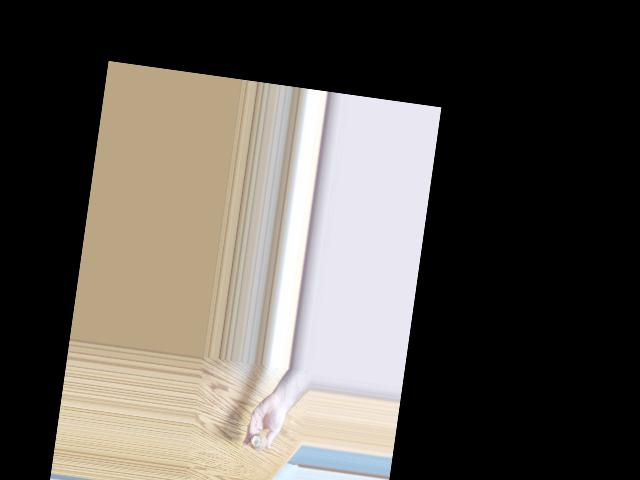sweet_potato: (249, 434, 269, 452)
